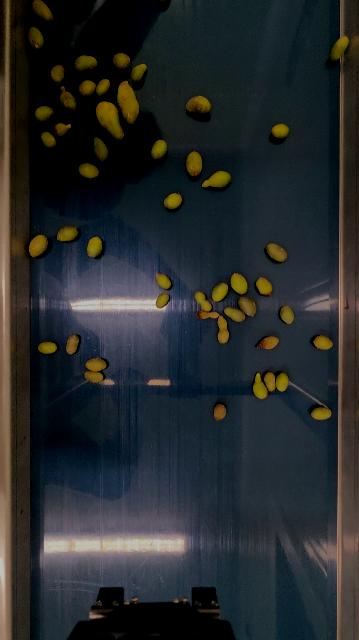Baby Potato: (94, 100, 128, 141), (114, 80, 142, 125), (202, 169, 232, 190), (185, 94, 214, 115), (330, 35, 351, 64), (185, 150, 205, 177), (31, 0, 54, 23), (28, 233, 49, 258), (91, 136, 110, 163), (266, 241, 289, 263), (73, 54, 98, 73), (27, 25, 45, 51), (237, 295, 258, 317), (58, 89, 78, 112), (230, 272, 249, 296), (216, 315, 231, 344), (253, 371, 268, 400), (194, 290, 213, 312), (211, 281, 230, 303), (56, 224, 79, 242), (86, 235, 103, 259), (256, 334, 280, 351), (129, 62, 148, 83), (78, 161, 100, 179), (85, 356, 108, 373), (224, 306, 247, 323), (112, 51, 131, 71), (77, 79, 97, 98), (34, 105, 55, 123), (314, 334, 335, 352), (263, 370, 278, 395), (164, 191, 183, 210), (256, 276, 273, 297), (151, 139, 168, 160), (65, 333, 81, 355), (280, 304, 296, 325), (50, 63, 66, 84), (311, 406, 333, 421), (37, 340, 58, 355), (84, 369, 106, 383), (276, 370, 290, 392), (40, 131, 57, 149), (271, 123, 290, 139), (96, 77, 111, 97), (52, 122, 72, 137), (196, 309, 219, 322), (213, 402, 228, 421), (156, 273, 172, 290), (156, 292, 171, 308), (156, 0, 171, 2)
